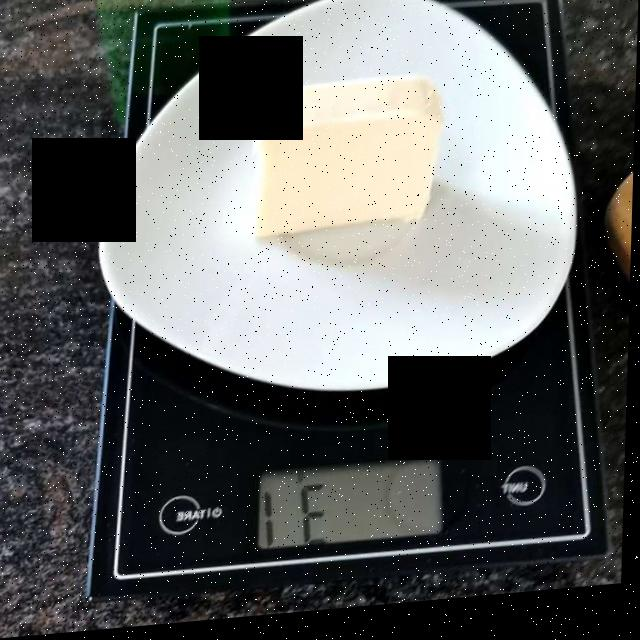butter: (255, 85, 442, 243)
